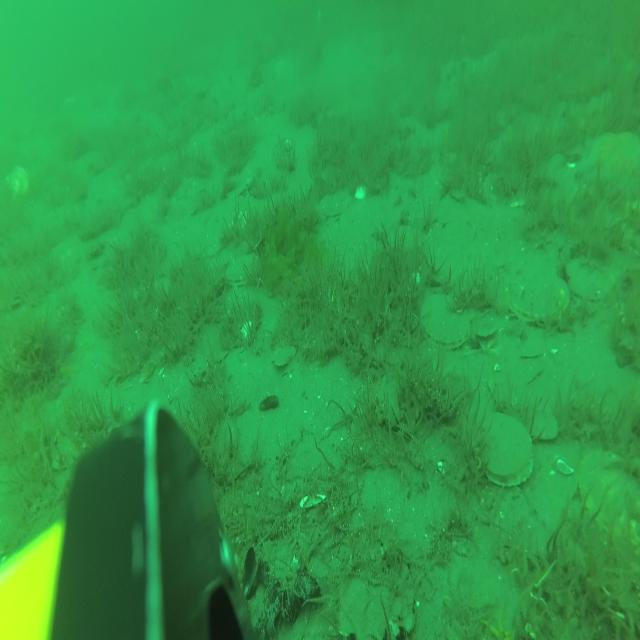scallop: (576, 446, 640, 543), (473, 408, 533, 486), (506, 273, 569, 324), (423, 294, 471, 351), (567, 255, 614, 302), (226, 254, 260, 286), (4, 164, 30, 205), (320, 189, 353, 217), (534, 411, 558, 444), (273, 345, 296, 367), (477, 322, 496, 342)
starfish: (576, 133, 640, 191)
